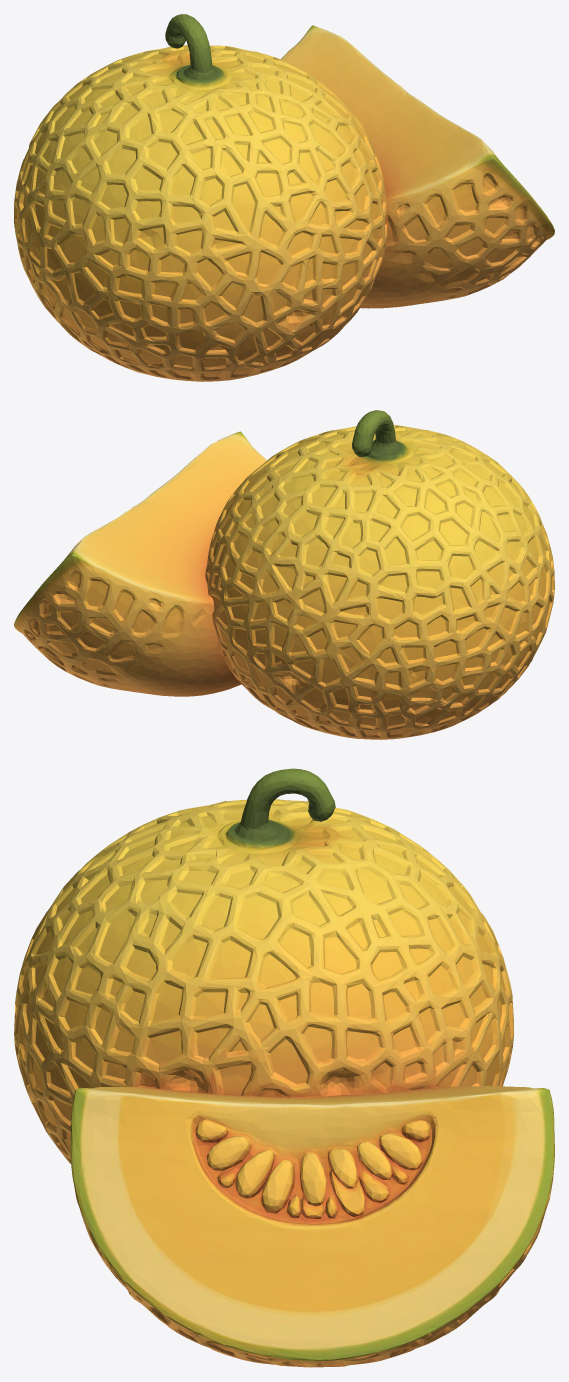
The model's file is meal_6.glb.
3 renders of one model, top to bottom at view 1: azimuth 30°, elevation 25°; view 2: azimuth 150°, elevation 25°; view 3: azimuth 270°, elevation 25°, orthographic. The views are drawn at different scales.
Parts seen in each view (by area): view 1: tripo_node_575f185a-1fc0-422c-ac08-c3d88db6efb7; view 2: tripo_node_575f185a-1fc0-422c-ac08-c3d88db6efb7; view 3: tripo_node_575f185a-1fc0-422c-ac08-c3d88db6efb7.
Part boxes in pixels (left/top/right/bottom): tripo_node_575f185a-1fc0-422c-ac08-c3d88db6efb7: left=14, top=14, right=554, bottom=381; tripo_node_575f185a-1fc0-422c-ac08-c3d88db6efb7: left=14, top=410, right=554, bottom=739; tripo_node_575f185a-1fc0-422c-ac08-c3d88db6efb7: left=14, top=768, right=554, bottom=1367.
Bounding box in the file's own units: 1 × 0.6308 × 0.7238.
1 material, 1 textured.
